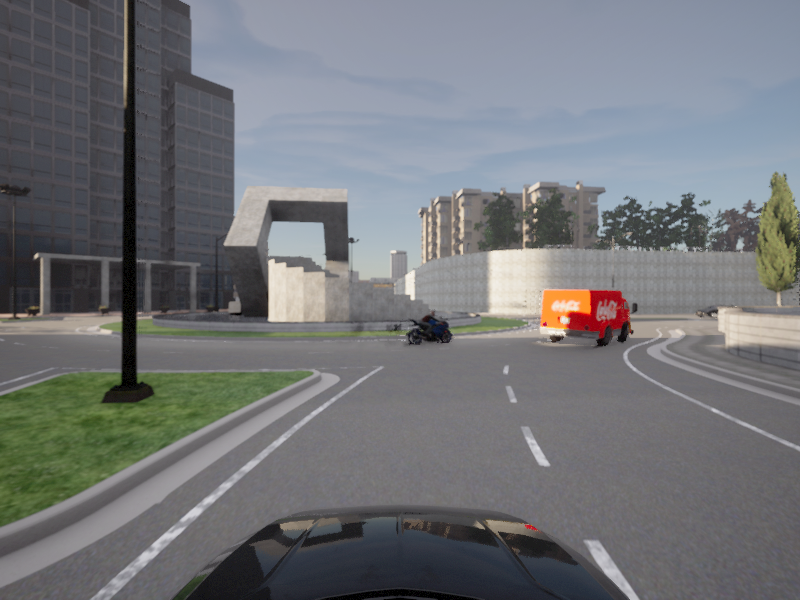vehicle: (535, 288, 642, 350), (404, 310, 457, 347)
